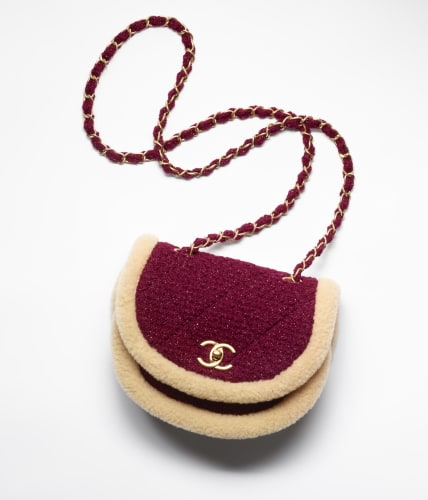channel: (93, 238, 343, 444), (137, 116, 352, 173), (185, 327, 258, 388)
